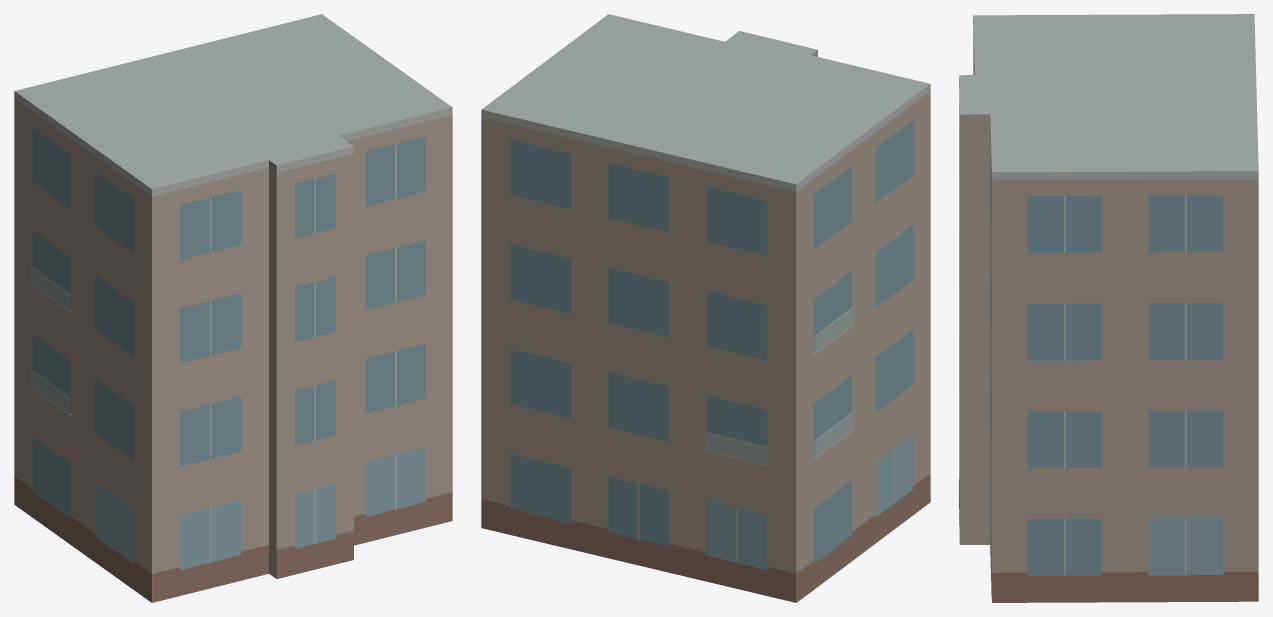
Rendered from survey-upis-32952689.glb.
3 renders of one model, left to right at view 1: azimuth 30°, elevation 25°; view 2: azimuth 150°, elevation 25°; view 3: azimuth 270°, elevation 25°, orthographic. The views are drawn at different scales.
Visible parts, largest first — view 1: survey-upis-32952689.tmp; view 2: survey-upis-32952689.tmp; view 3: survey-upis-32952689.tmp.
Boxes of the visible parts, bbox=[...] form: survey-upis-32952689.tmp: bbox=[14, 14, 452, 602]; survey-upis-32952689.tmp: bbox=[481, 14, 930, 602]; survey-upis-32952689.tmp: bbox=[959, 14, 1258, 602].
Size of the model in its own units: 10.69 by 13.5 by 8.52.
